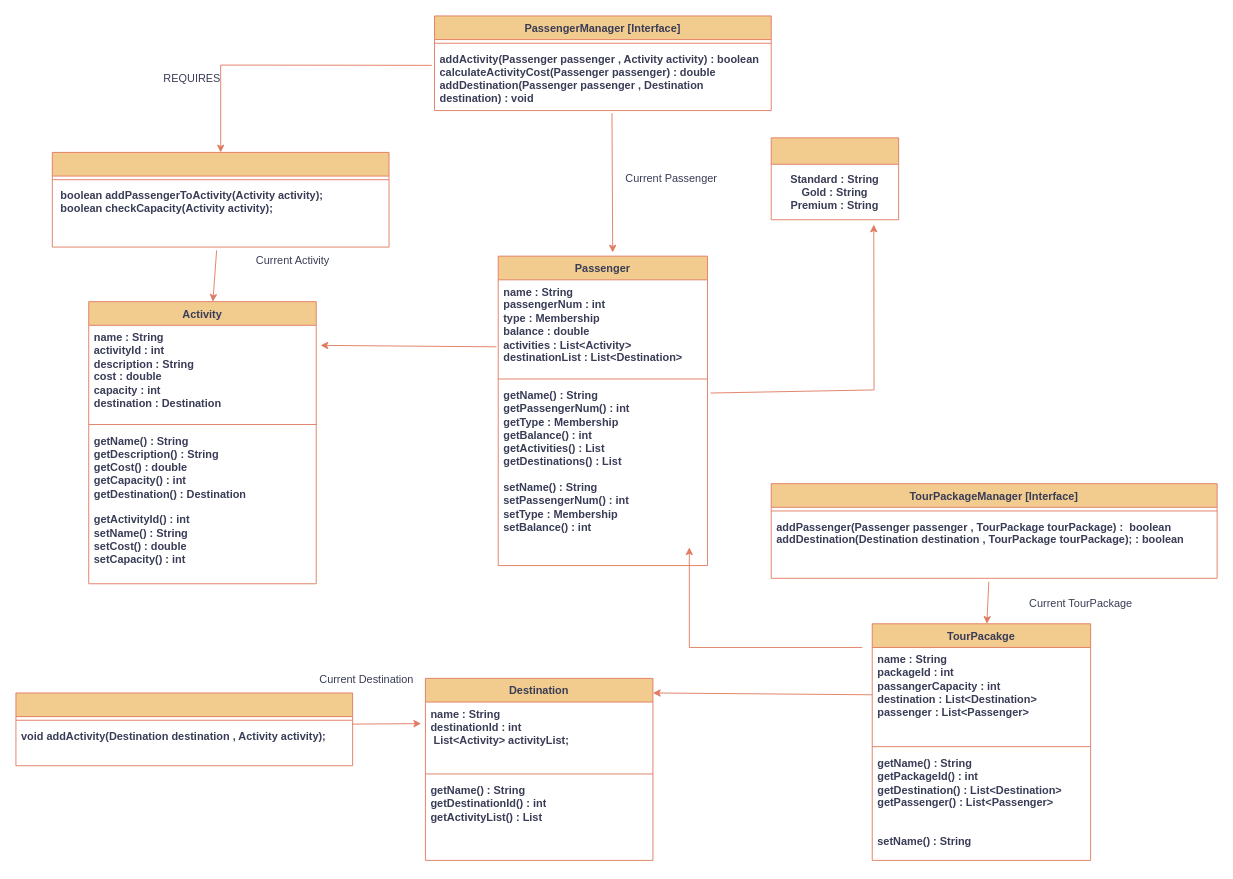
Some shapes in this 1233 by 879 pixel diagram are drawn without their labels. Each missing label, with the box of its shape:
ActivityManager [Interface]: (51, 152, 389, 247)
DestinationManager: (15, 692, 353, 766)
Membership [ENUM]: (770, 137, 899, 220)
